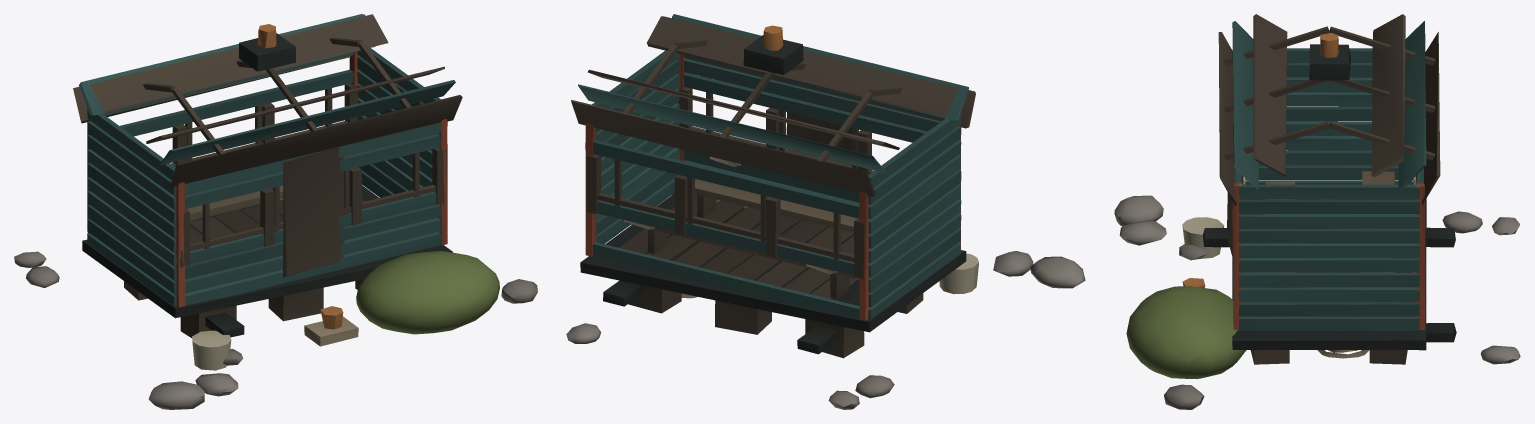
The model's file is tram_car_parked_c_lod2.glb.
3 renders of one model, left to right at view 1: azimuth 30°, elevation 25°; view 2: azimuth 150°, elevation 25°; view 3: azimuth 270°, elevation 25°, orthographic. The views are drawn at different scales.
Parts seen in each view (by area): view 1: Surface.001; view 2: Surface.001; view 3: Surface.001.
Part boxes in pixels (box(x1,y1,x2,y2)): Surface.001: box(14, 14, 537, 409); Surface.001: box(566, 14, 1085, 409); Surface.001: box(1114, 14, 1520, 409).
Size of the model in its own units: 6.97 by 4.41 by 5.78.
